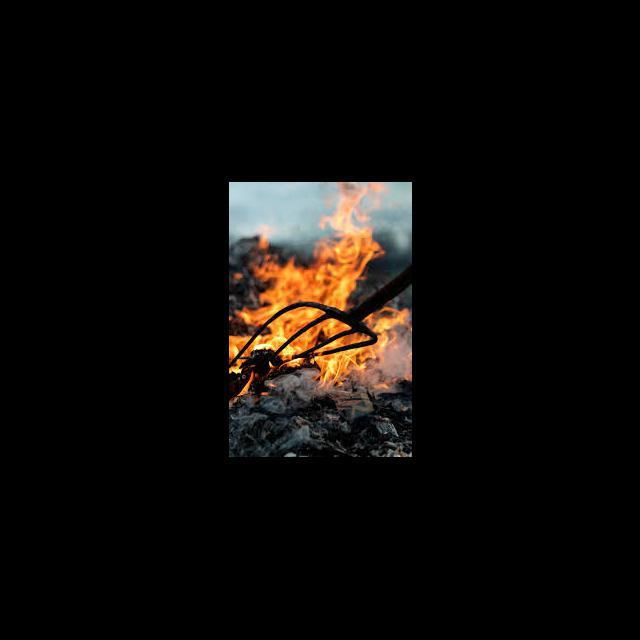Fire: (230, 182, 392, 404)
